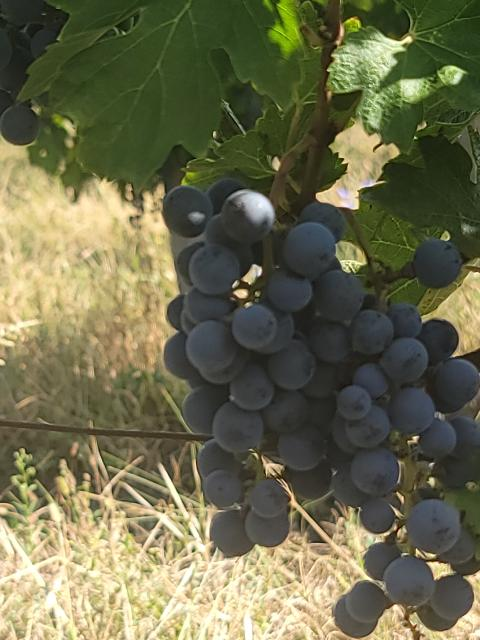grapes: (162, 179, 362, 556), (334, 302, 480, 638)
